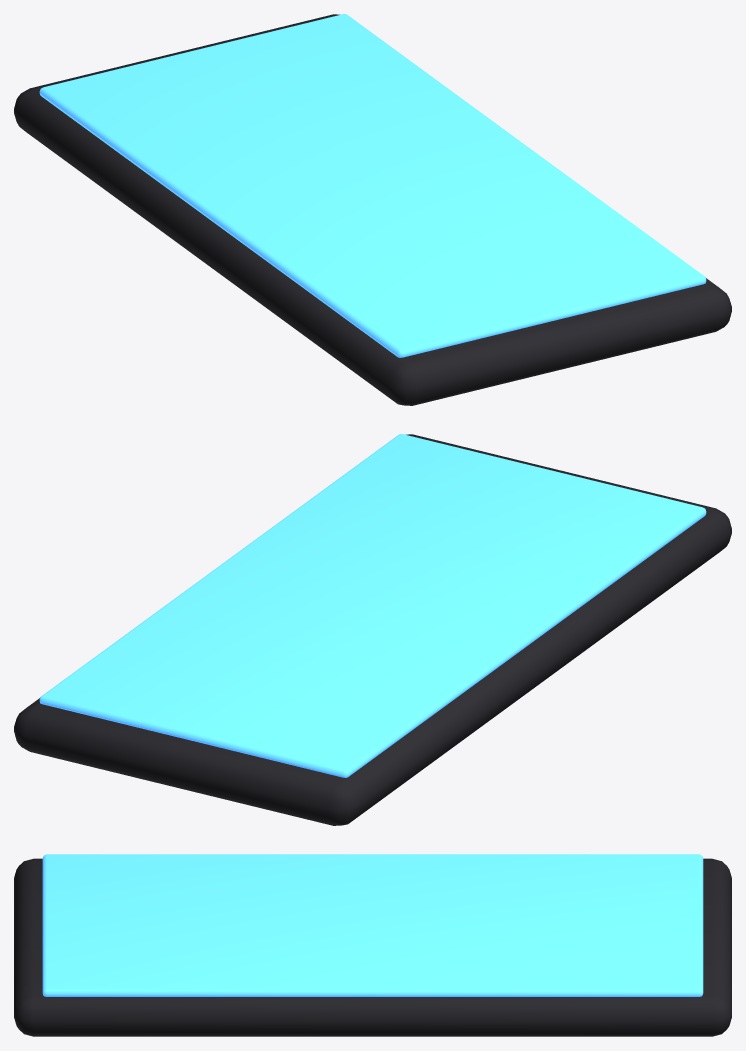
File: smartphone.glb
3 renders of one model, top to bottom at view 1: azimuth 30°, elevation 25°; view 2: azimuth 150°, elevation 25°; view 3: azimuth 270°, elevation 25°, orthographic. The views are drawn at different scales.
Parts seen in each view (by area): view 1: smartphone; view 2: smartphone; view 3: smartphone.
Part boxes in pixels (box(x1,y1,x2,y2)): smartphone: box(14, 14, 731, 405); smartphone: box(14, 434, 731, 825); smartphone: box(14, 854, 731, 1036).
Bounding box in the file's own units: 0.075 × 0.012 × 0.15.
